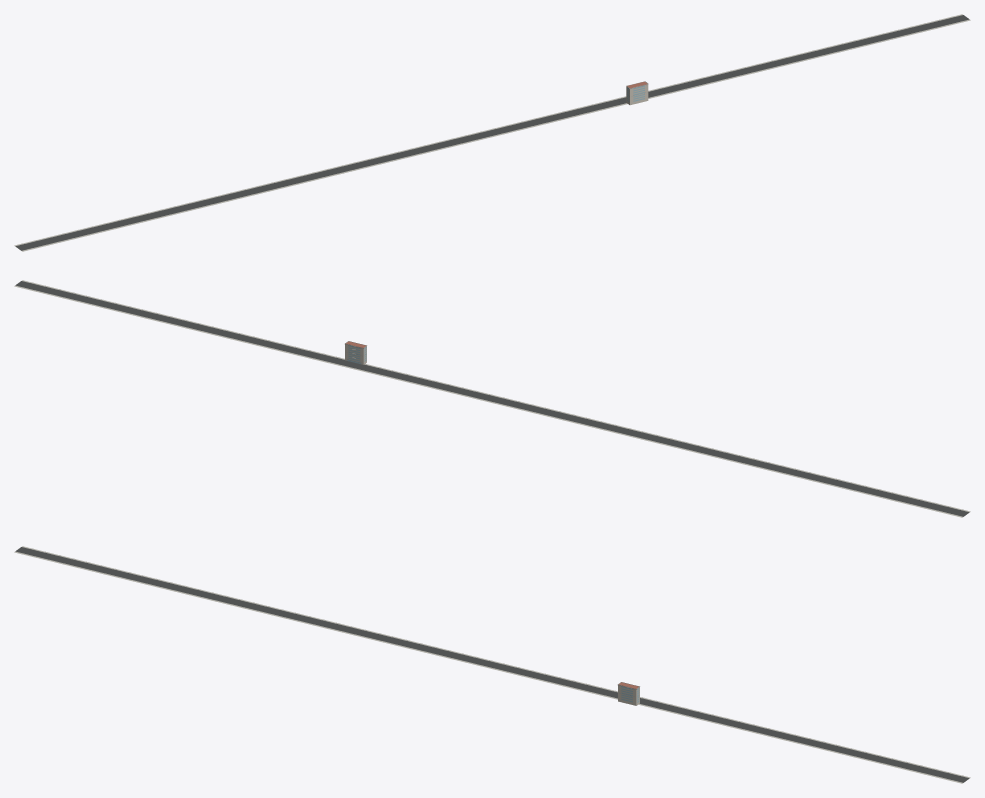
File: tile-p000-p003.glb
3 views of the same model, one above another, from view 1: azimuth 30°, elevation 25°; view 2: azimuth 150°, elevation 25°; view 3: azimuth 330°, elevation 25° (orthographic).
Visible parts, largest first — view 1: road-h-20-mesh-1, road-h-20-mesh-0; view 2: road-h-20-mesh-1, road-h-20-mesh-0; view 3: road-h-20-mesh-1, road-h-20-mesh-0.
Boxes of the visible parts, x1,y1,x2,y2 form: road-h-20-mesh-1: [15, 15, 969, 250]; road-h-20-mesh-0: [14, 14, 970, 251]; road-h-20-mesh-1: [15, 281, 969, 516]; road-h-20-mesh-0: [14, 280, 970, 517]; road-h-20-mesh-1: [15, 547, 969, 782]; road-h-20-mesh-0: [14, 546, 970, 783].
Bounding box in the file's own units: 1600 × 27.35 × 30.37.
